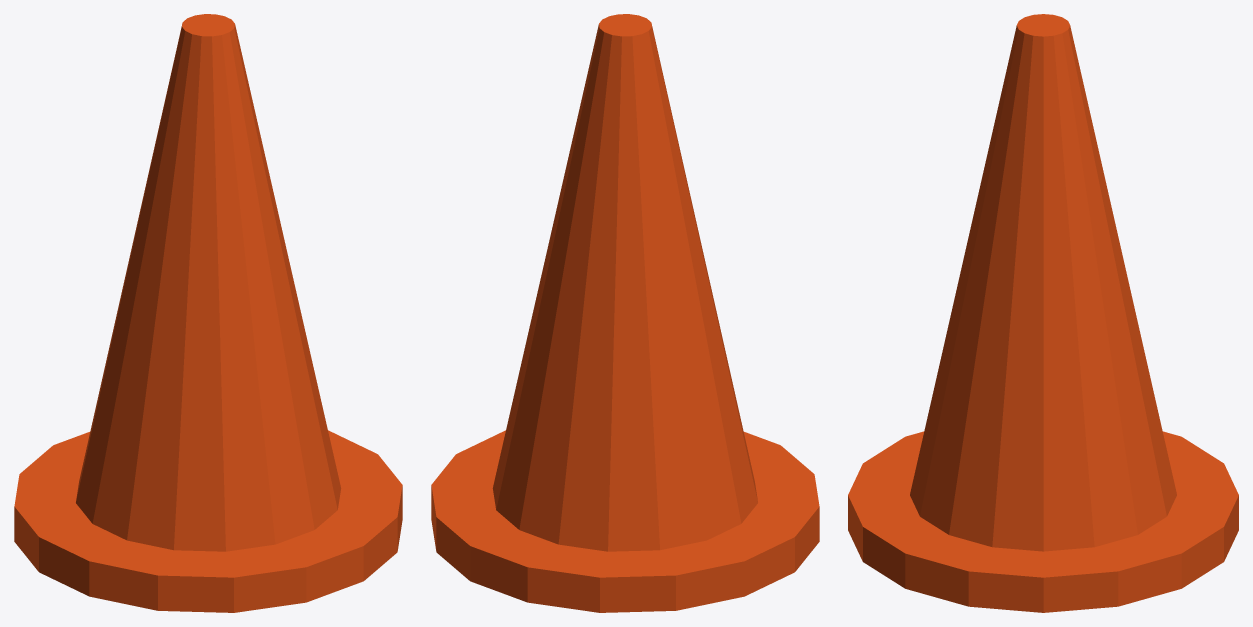
File: orange_cone.dae
3 views of the same model, side by side, from view 1: azimuth 30°, elevation 25°; view 2: azimuth 150°, elevation 25°; view 3: azimuth 270°, elevation 25° (orthographic).
Parts seen in each view (by area): view 1: Cone; view 2: Cone; view 3: Cone.
Boxes of the visible parts, x1,y1,x2,y2 form: Cone: [14, 14, 402, 612]; Cone: [431, 14, 819, 612]; Cone: [848, 14, 1238, 612].
Size of the model in its own units: 0.228 by 0.228 by 0.325.
